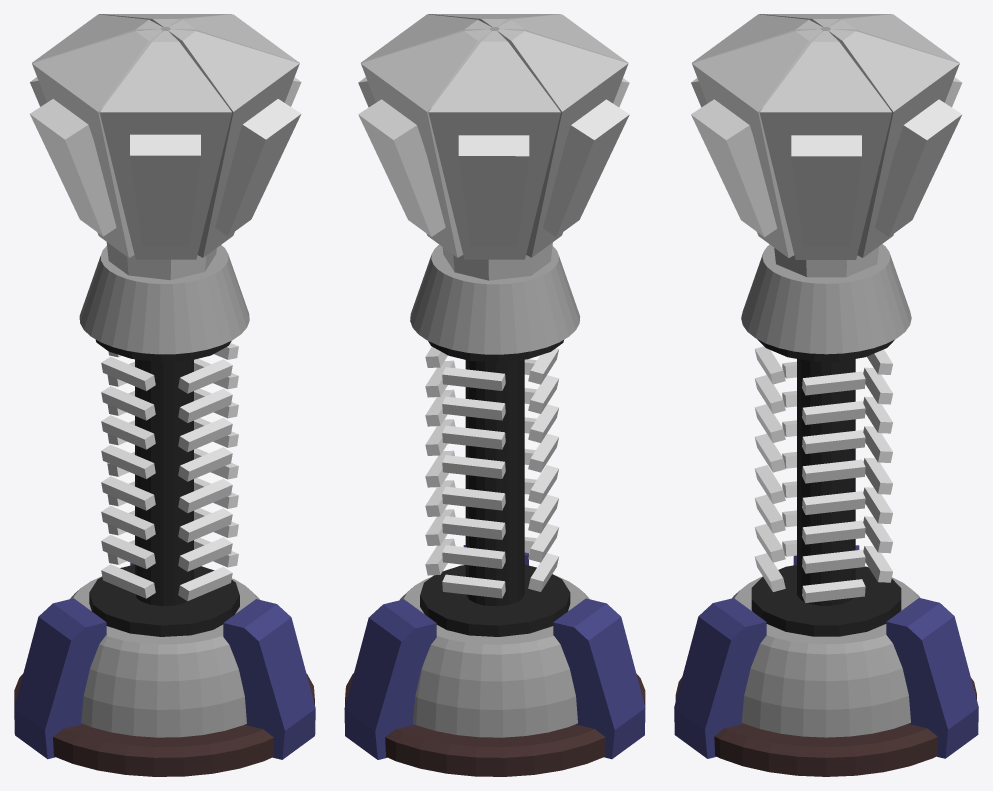
Rendered from prism.fbx.
The picture shows the model from 3 angles, left to right: view 1: azimuth 30°, elevation 25°; view 2: azimuth 150°, elevation 25°; view 3: azimuth 270°, elevation 25°; orthographic projection.
Parts seen in each view (by area): view 1: base, turret, base_1, turret_1; view 2: base, turret, base_1, turret_1; view 3: base, turret, base_1, turret_1.
Boxes of the visible parts, <box> form: base: <box>14,245,315,776</box>; turret: <box>32,14,299,280</box>; base_1: <box>101,343,238,601</box>; turret_1: <box>30,77,301,245</box>; base: <box>344,244,645,776</box>; turret: <box>361,14,628,280</box>; base_1: <box>425,346,558,598</box>; turret_1: <box>358,77,629,246</box>; base: <box>674,244,978,776</box>; turret: <box>692,14,959,277</box>; base_1: <box>754,346,892,602</box>; turret_1: <box>691,77,962,246</box>.
Size of the model in its own units: 68.33 by 169 by 67.91.
